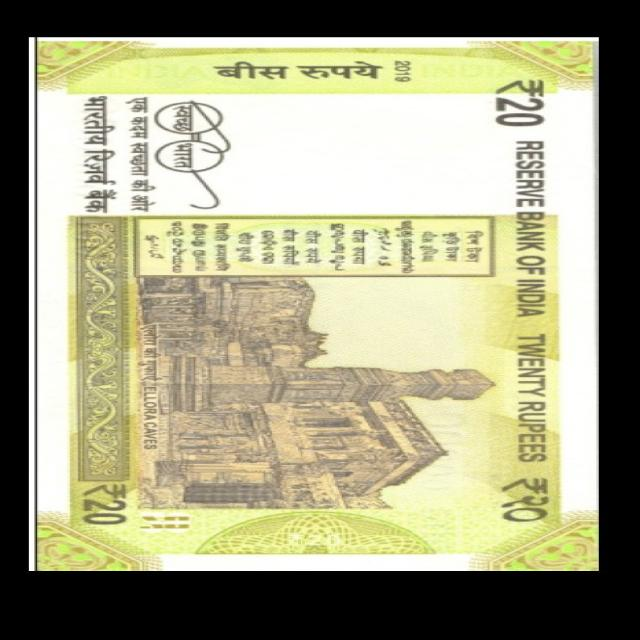20IndianRupees: (35, 36, 597, 570)
